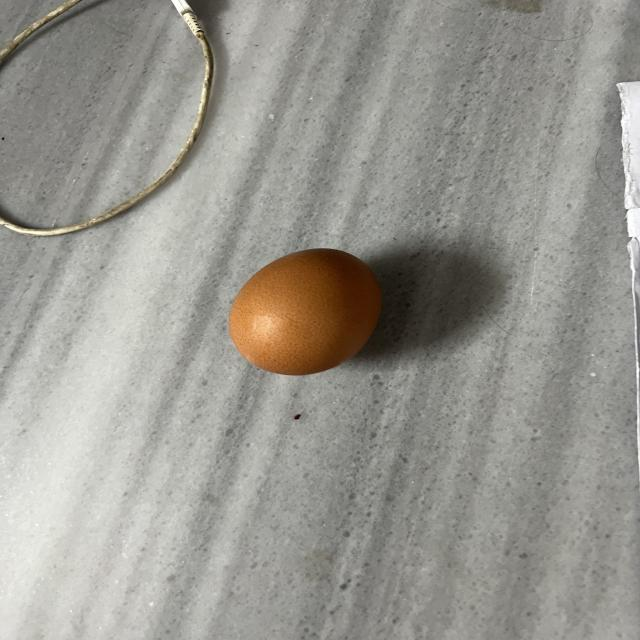Egg: (224, 248, 394, 382)
